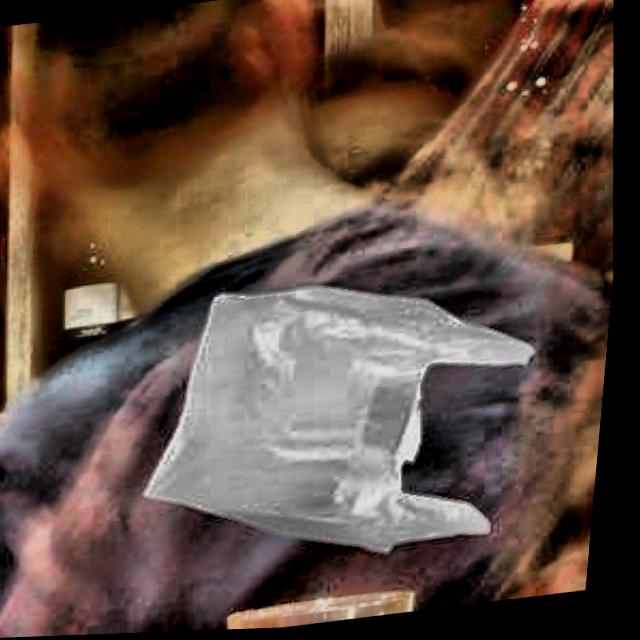Plastic: (136, 249, 573, 600)
